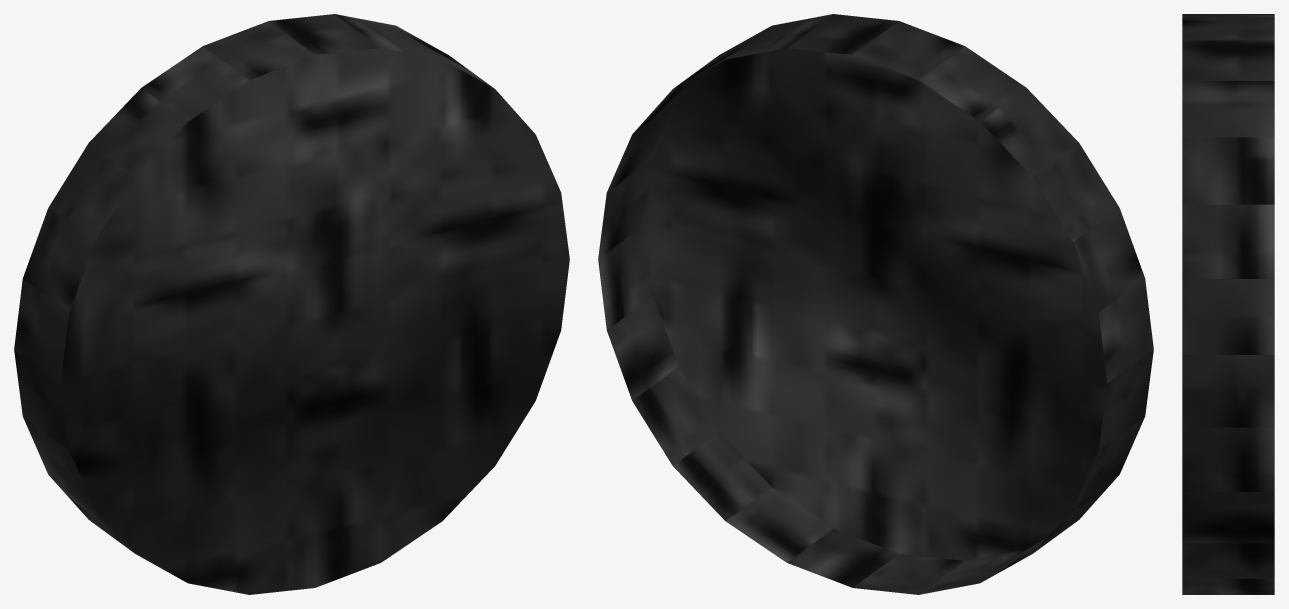
The model's file is original-39.obj.
3 views of the same model, side by side, from view 1: azimuth 30°, elevation 25°; view 2: azimuth 150°, elevation 25°; view 3: azimuth 270°, elevation 25° (orthographic).
Parts seen in each view (by area): view 1: mesh53/mesh53-geometry#mesh53-geometry; view 2: mesh53/mesh53-geometry#mesh53-geometry; view 3: mesh53/mesh53-geometry#mesh53-geometry.
Part boxes in pixels (x1,y1,x2,y2): mesh53/mesh53-geometry#mesh53-geometry: [14, 14, 569, 594]; mesh53/mesh53-geometry#mesh53-geometry: [598, 14, 1153, 594]; mesh53/mesh53-geometry#mesh53-geometry: [1182, 14, 1274, 594].
Size of the model in its own units: 0.0335 by 0.0335 by 0.0053.
